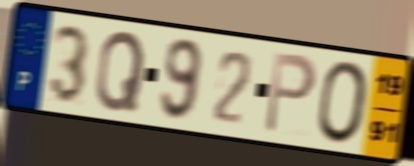2: (210, 49, 254, 127)
3: (47, 22, 93, 105)
9: (158, 37, 205, 124)
O: (316, 58, 371, 147)
P: (261, 49, 319, 138)
Q: (93, 28, 148, 113)
